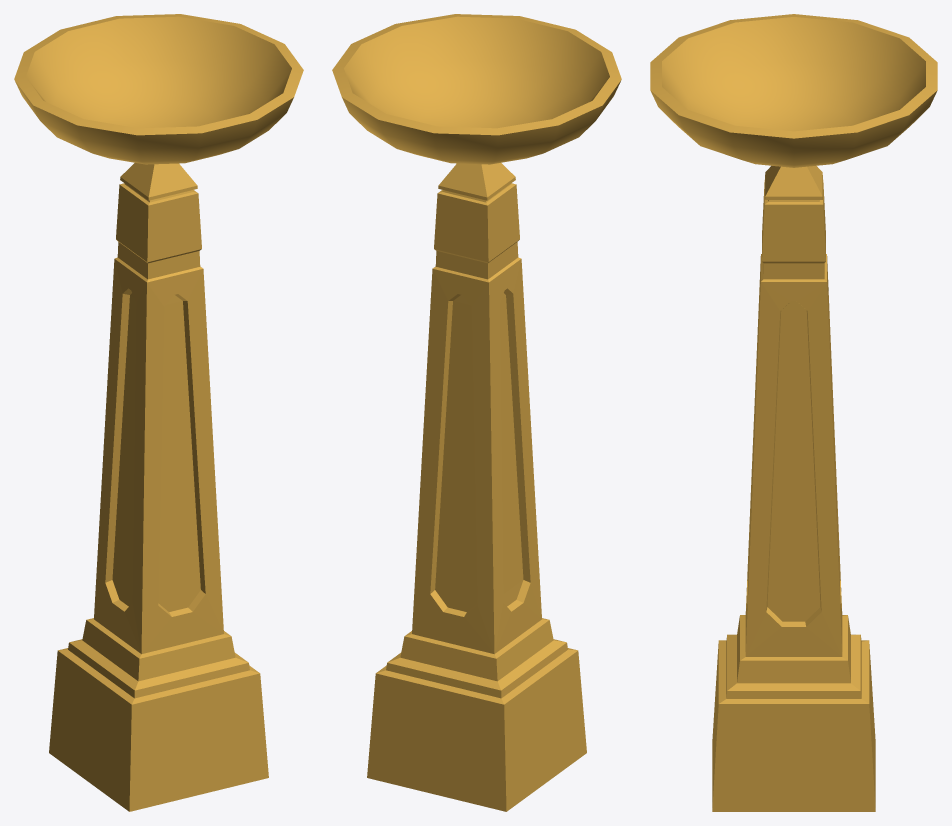
File: CGM_ENV_PRP_fair_blow5.fbx
The picture shows the model from 3 angles, left to right: view 1: azimuth 30°, elevation 25°; view 2: azimuth 150°, elevation 25°; view 3: azimuth 270°, elevation 25°; orthographic projection.
Visible parts, largest first — view 1: CGM_ENV_PRP_fair_blow5; view 2: CGM_ENV_PRP_fair_blow5; view 3: CGM_ENV_PRP_fair_blow5.
Boxes of the visible parts, x1,y1,x2,y2 form: CGM_ENV_PRP_fair_blow5: [14, 14, 303, 811]; CGM_ENV_PRP_fair_blow5: [332, 14, 621, 811]; CGM_ENV_PRP_fair_blow5: [650, 14, 937, 811].
Bounding box in the file's own units: 73.52 × 193 × 71.67.
